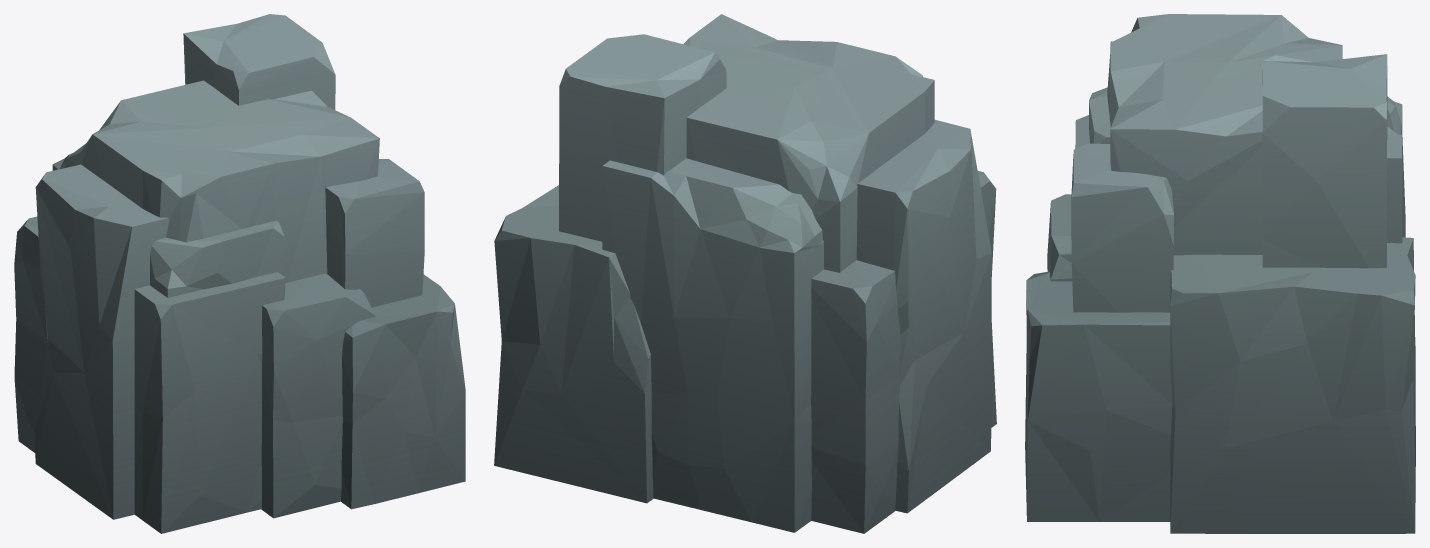
The model's file is BigRock_01.obj.
The picture shows the model from 3 angles, left to right: view 1: azimuth 30°, elevation 25°; view 2: azimuth 150°, elevation 25°; view 3: azimuth 270°, elevation 25°; orthographic projection. The views are drawn at different scales.
Visible parts, largest first — view 1: BigRock_01; view 2: BigRock_01; view 3: BigRock_01.
Boxes of the visible parts, <box> form: BigRock_01: <box>14,14,465,533</box>; BigRock_01: <box>494,14,996,533</box>; BigRock_01: <box>1025,14,1415,533</box>.
Size of the model in its own units: 4.67 by 4.82 by 4.25.
Materials: 1 (1 with a texture image).
